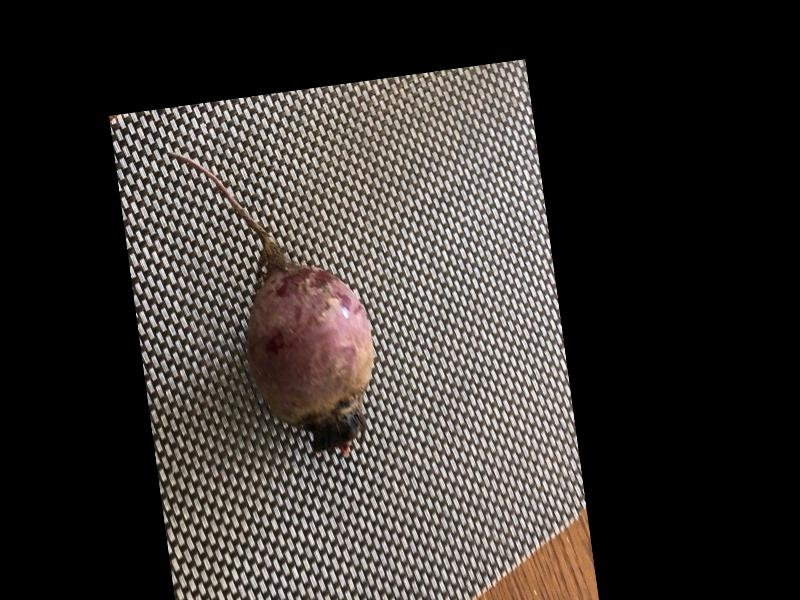Beet: (167, 126, 386, 475)
